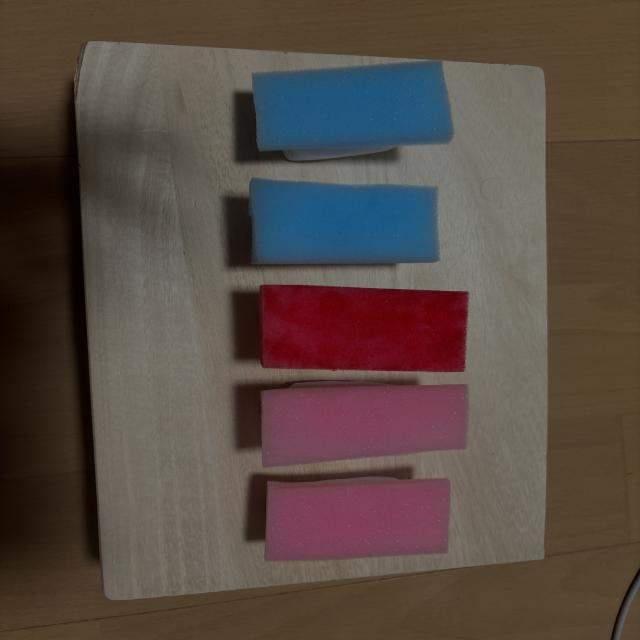ika: (253, 61, 454, 161), (249, 178, 439, 264)
maguro: (259, 285, 468, 372)
tai: (261, 382, 468, 467), (265, 478, 450, 561)
